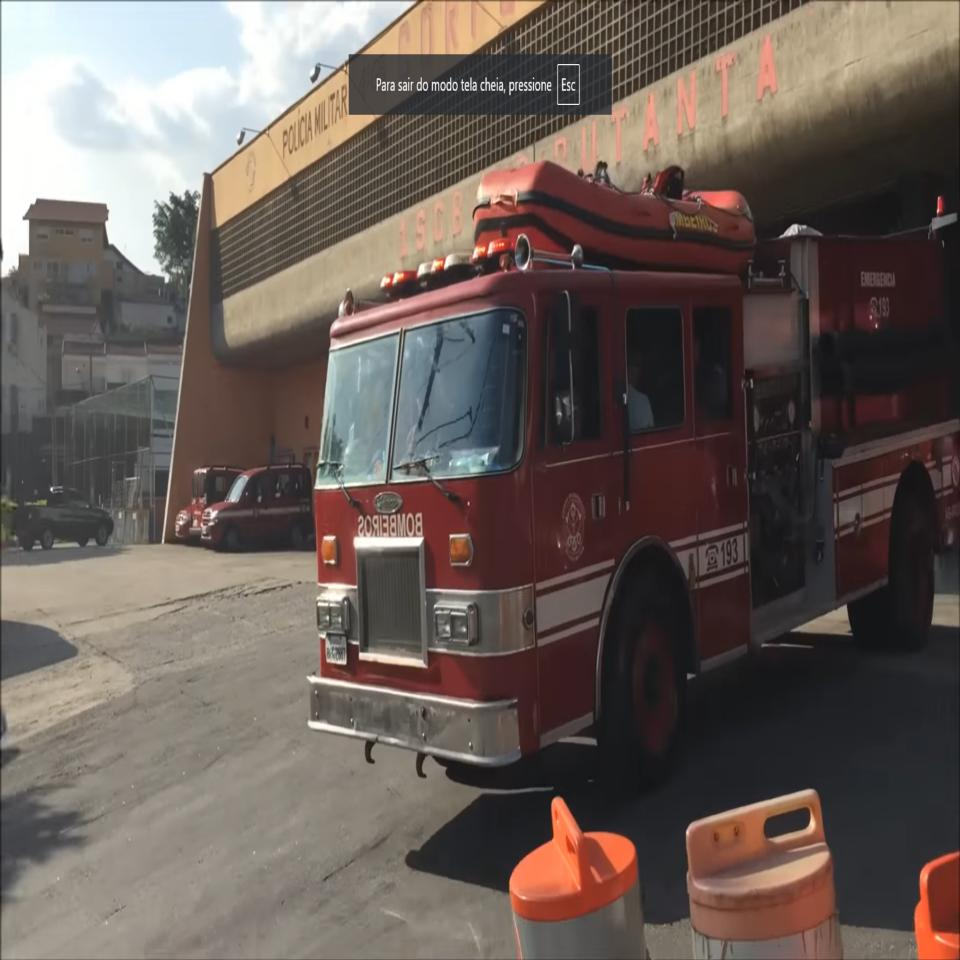viatura: (297, 159, 960, 801)
